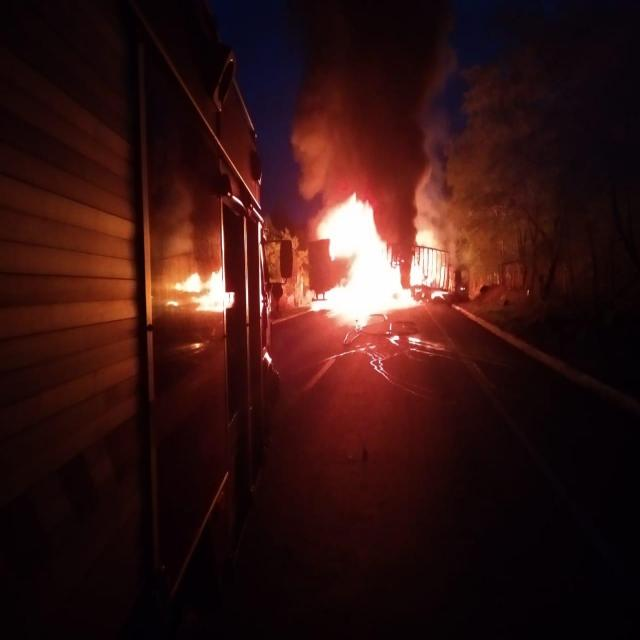Fire: (305, 196, 437, 321)
